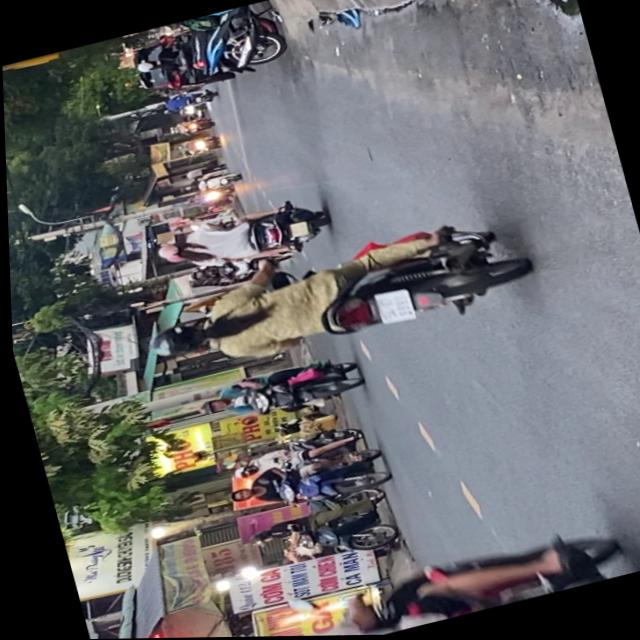helmet: (141, 319, 209, 364), (152, 240, 187, 265), (221, 486, 252, 507), (192, 399, 223, 419), (226, 465, 252, 483), (243, 532, 269, 547)
licenseplate: (126, 205, 536, 392), (146, 193, 333, 285), (235, 481, 400, 581), (214, 440, 390, 527), (186, 352, 365, 437)
nohelmet: (370, 289, 411, 328), (285, 222, 307, 240)
